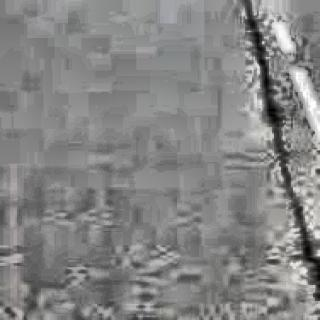crack: (240, 8, 304, 218), (277, 240, 320, 302)
